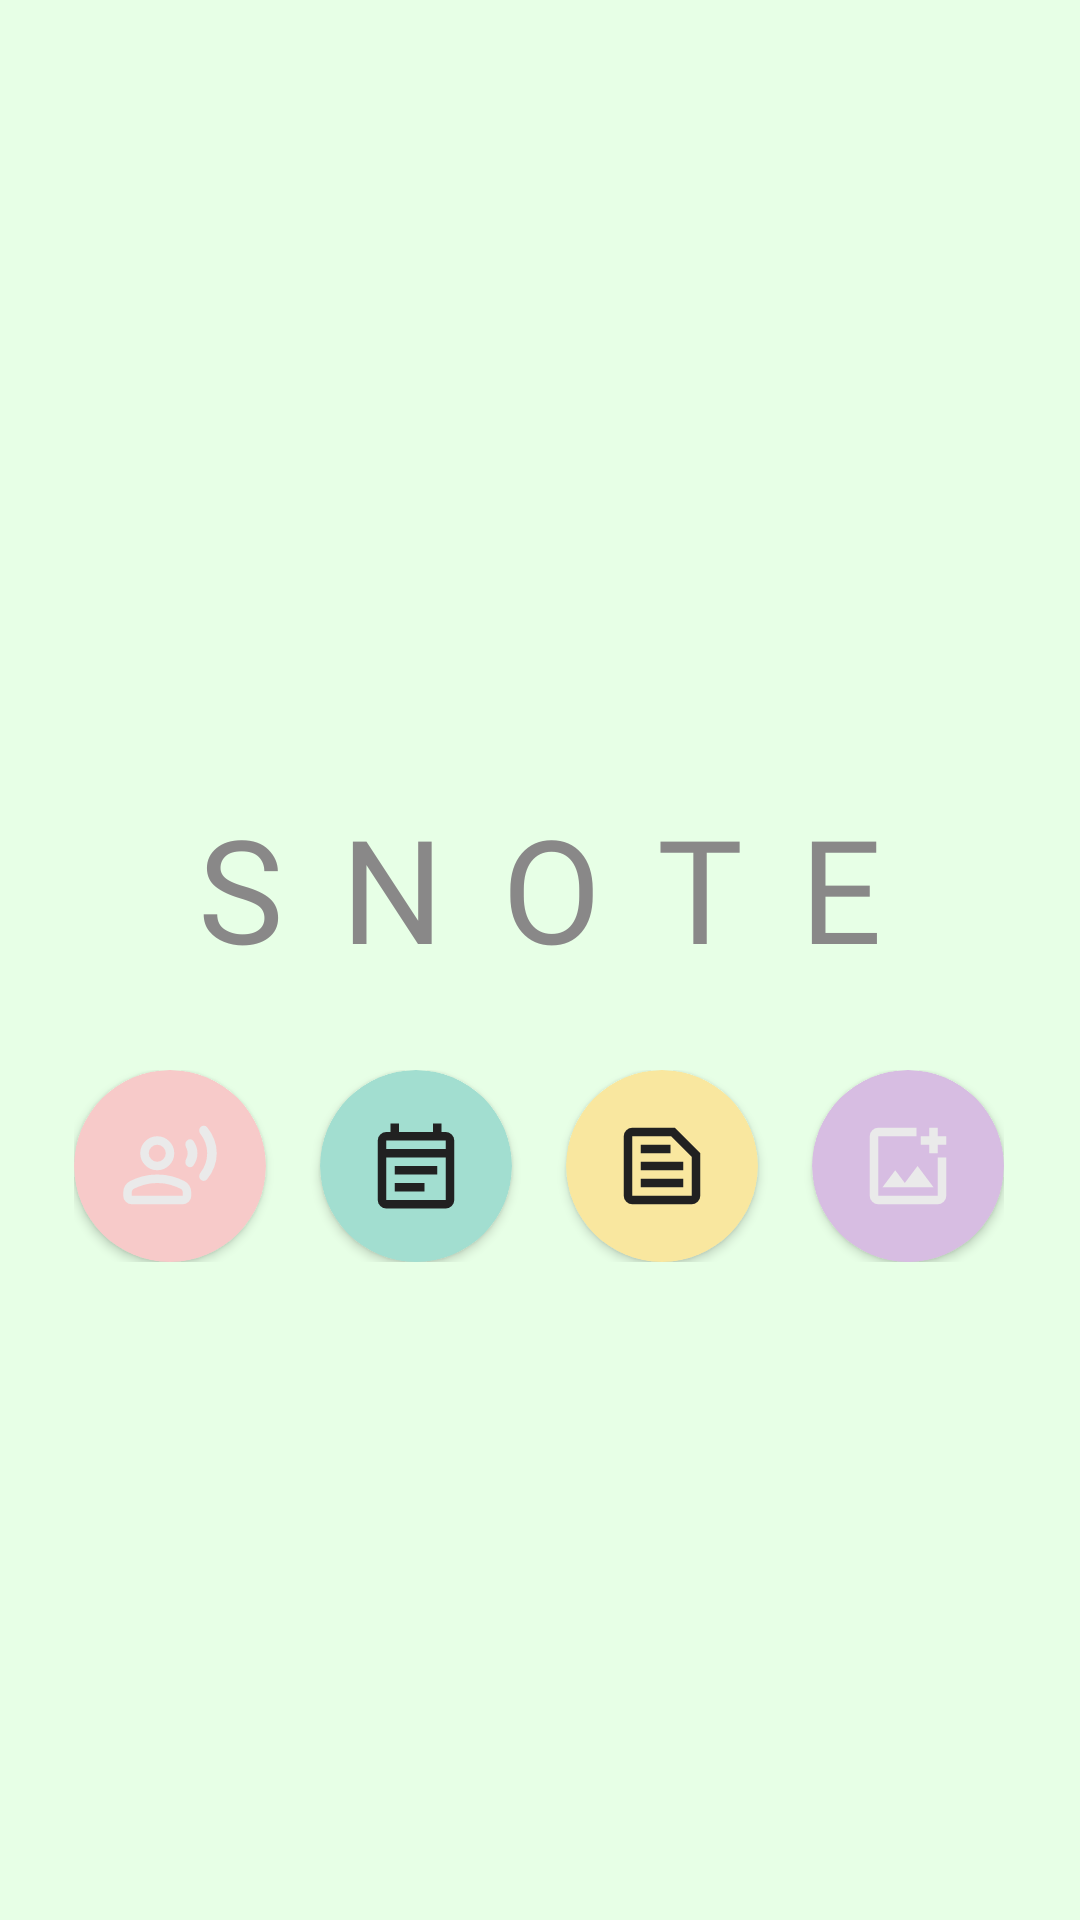

Icons on this 1080px×1920px Android screen, each with its box as (x1, y1, x2, y2):
add photo: (812, 1070, 1004, 1262)
event note: (320, 1070, 512, 1262)
record voice: (74, 1070, 266, 1262)
text snippet: (566, 1070, 758, 1262)
